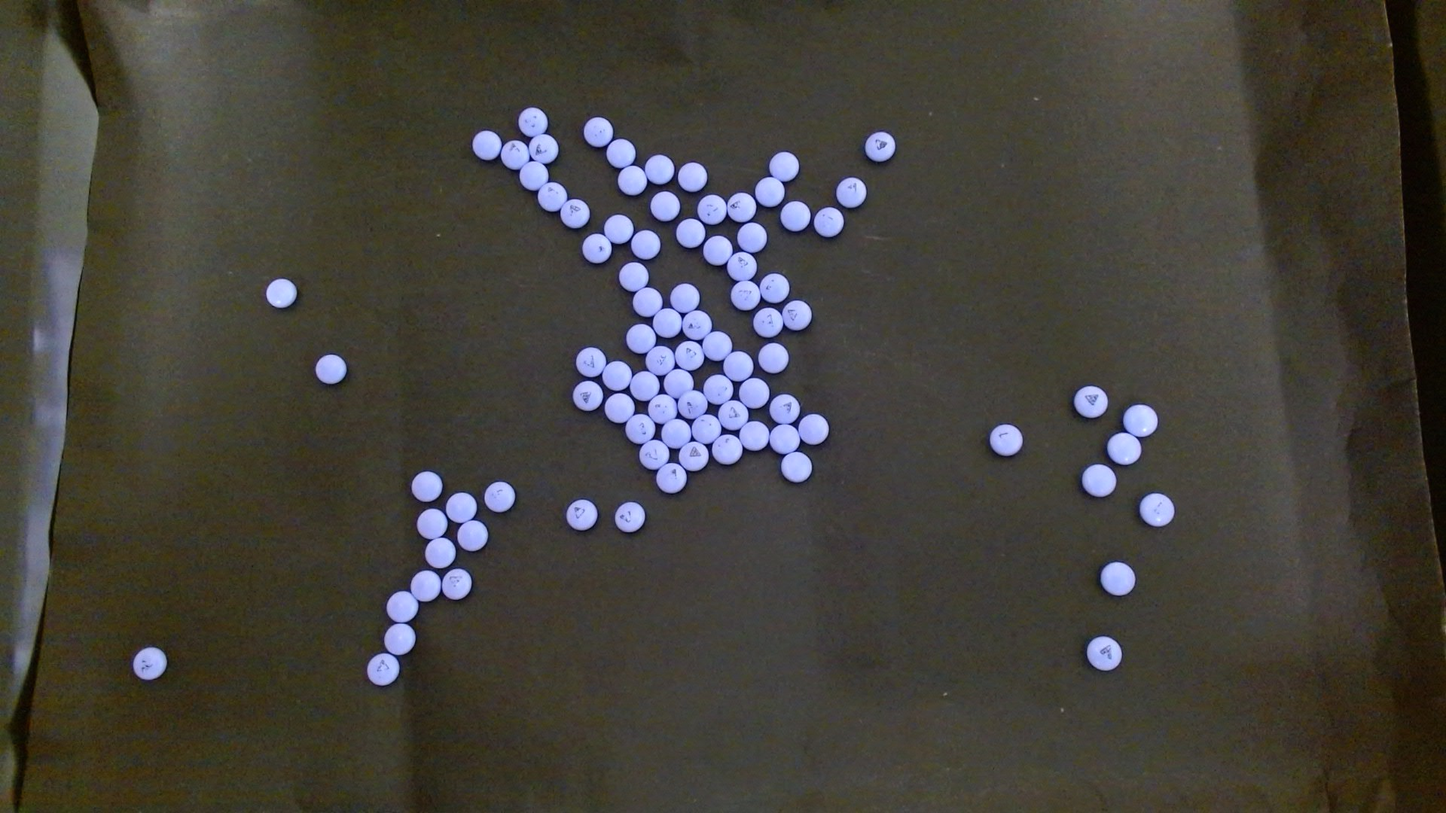Circle: (1086, 635, 1122, 671), (1138, 492, 1174, 527), (1100, 560, 1135, 595), (1074, 385, 1109, 419), (1123, 403, 1157, 437), (1081, 464, 1115, 498), (1106, 431, 1141, 464), (768, 392, 801, 426), (574, 345, 607, 379), (133, 647, 166, 681), (798, 413, 831, 447), (386, 589, 419, 623), (812, 205, 845, 238), (715, 398, 748, 431), (712, 433, 744, 467), (696, 192, 728, 226), (781, 298, 813, 332), (701, 234, 735, 266), (737, 221, 769, 255), (722, 350, 754, 383), (536, 181, 568, 214), (638, 439, 670, 472), (655, 461, 687, 494), (314, 353, 347, 385), (663, 368, 695, 400), (703, 374, 735, 406), (990, 424, 1022, 456), (616, 165, 648, 197), (367, 653, 399, 685), (780, 451, 812, 483), (410, 470, 442, 502), (648, 393, 679, 426), (629, 369, 660, 402), (836, 176, 867, 209), (864, 130, 895, 163), (625, 412, 656, 445), (441, 568, 472, 601), (456, 519, 487, 552), (675, 340, 706, 373), (779, 200, 812, 231), (416, 507, 447, 540), (519, 160, 550, 192), (727, 250, 758, 282), (603, 214, 635, 245), (572, 379, 603, 411), (645, 344, 676, 376), (384, 623, 415, 655), (445, 492, 477, 523), (410, 569, 441, 601), (754, 305, 784, 338), (739, 420, 769, 453), (661, 419, 692, 450), (266, 277, 297, 308), (682, 310, 713, 341), (626, 323, 657, 354), (618, 260, 649, 291), (615, 501, 645, 533), (758, 342, 788, 374), (739, 377, 769, 409), (760, 273, 790, 304), (652, 308, 682, 339), (727, 192, 757, 223), (581, 233, 612, 263), (566, 499, 596, 530), (484, 481, 514, 512), (702, 331, 733, 361), (425, 537, 455, 568), (678, 390, 708, 421), (499, 139, 530, 169), (605, 393, 635, 424), (632, 286, 662, 317), (559, 199, 591, 228), (517, 107, 547, 137), (691, 414, 721, 444), (770, 424, 800, 454), (645, 154, 675, 184), (583, 116, 612, 147), (630, 230, 661, 259), (755, 176, 784, 207), (472, 129, 501, 160), (731, 280, 760, 310), (679, 441, 708, 471), (769, 151, 798, 181), (606, 139, 636, 168), (529, 132, 557, 163), (651, 190, 679, 221), (676, 217, 704, 248), (678, 162, 706, 192), (602, 361, 630, 391), (670, 284, 698, 312)
